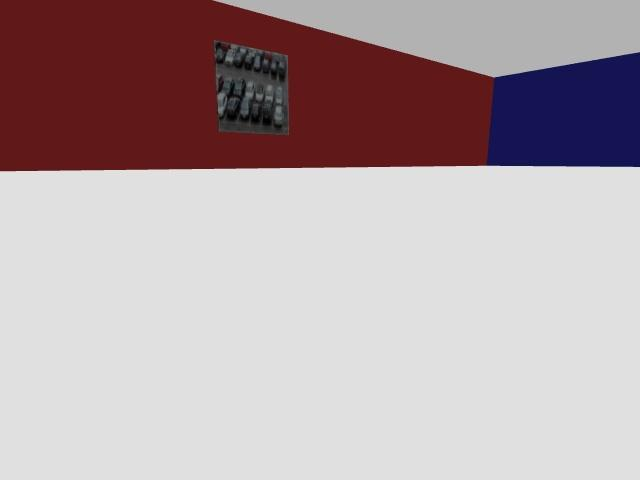vehicle: (239, 96, 252, 119), (226, 97, 240, 118), (221, 77, 235, 97), (232, 77, 245, 97), (217, 92, 227, 117), (262, 102, 273, 124), (273, 105, 283, 126), (224, 48, 235, 65), (245, 81, 255, 99), (250, 102, 260, 120), (233, 50, 244, 66), (264, 85, 273, 102), (253, 55, 262, 72), (244, 52, 253, 69), (255, 83, 263, 102), (275, 86, 283, 104), (215, 48, 224, 63), (278, 60, 285, 79), (216, 74, 223, 92), (270, 59, 277, 76), (216, 42, 229, 51), (262, 58, 269, 72), (273, 53, 281, 62), (239, 47, 247, 55), (248, 48, 256, 56), (255, 50, 264, 57), (265, 52, 272, 60), (214, 41, 220, 50), (229, 44, 238, 49)
